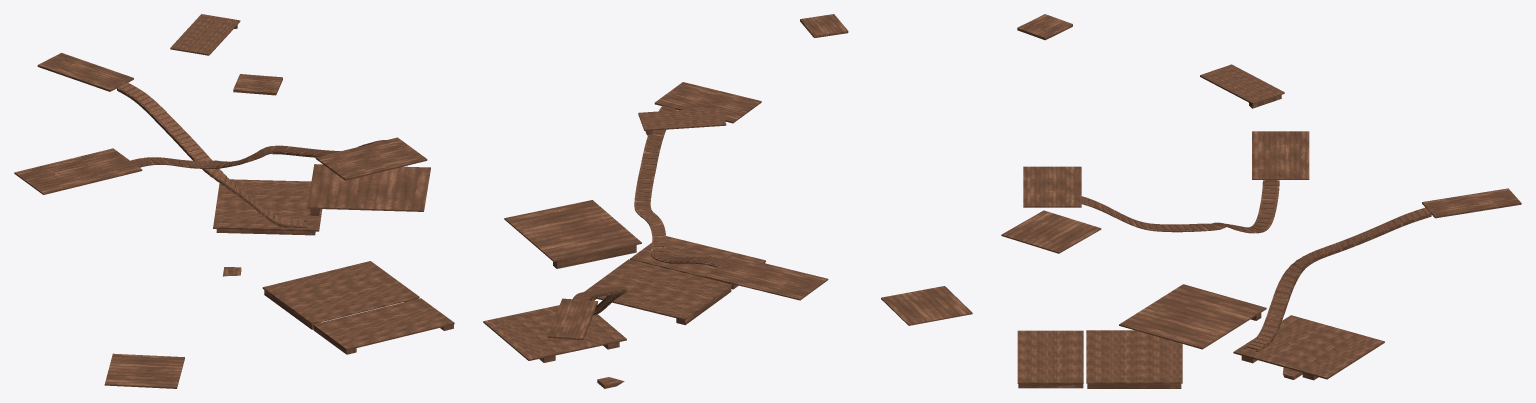
Rendered from field_spring_woodfloor_grp.fbx.
3 views of the same model, side by side, from view 1: azimuth 30°, elevation 25°; view 2: azimuth 150°, elevation 25°; view 3: azimuth 270°, elevation 25° (orthographic). The views are drawn at different scales.
Visible parts, largest first — view 1: field_spring_woodfloor2, field_spring_woodfloor4, field_spring_woodfloor1, field_spring_road, field_spring_woodfloor5, field_spring_woodfloor7, field_spring_woodfloor3, field_spring_woodfloor6, field_spring_woodfloor8, field_spring_woodfloor9; view 2: field_spring_woodfloor2, field_spring_woodfloor4, field_spring_woodfloor1, field_spring_road, field_spring_woodfloor5, field_spring_woodfloor3, field_spring_woodfloor7, field_spring_woodfloor8, field_spring_woodfloor6, field_spring_woodfloor9; view 3: field_spring_woodfloor2, field_spring_road, field_spring_woodfloor4, field_spring_woodfloor1, field_spring_woodfloor5, field_spring_woodfloor7, field_spring_woodfloor3, field_spring_woodfloor8, field_spring_woodfloor6, field_spring_woodfloor9.
Boxes of the visible parts, box(x1,y1,x2,y2) form: field_spring_woodfloor2: box(262, 261, 454, 354); field_spring_woodfloor4: box(307, 164, 430, 215); field_spring_woodfloor1: box(213, 179, 322, 276); field_spring_road: box(117, 82, 385, 227); field_spring_woodfloor5: box(14, 148, 142, 194); field_spring_woodfloor7: box(315, 137, 427, 180); field_spring_woodfloor3: box(104, 353, 184, 388); field_spring_woodfloor6: box(37, 53, 133, 91); field_spring_woodfloor8: box(170, 14, 240, 55); field_spring_woodfloor9: box(233, 74, 282, 95); field_spring_woodfloor2: box(584, 236, 765, 325); field_spring_woodfloor4: box(504, 200, 641, 268); field_spring_woodfloor1: box(483, 305, 626, 388); field_spring_road: box(572, 105, 725, 314); field_spring_woodfloor5: box(705, 255, 828, 300); field_spring_woodfloor3: box(881, 286, 972, 325); field_spring_woodfloor7: box(654, 82, 761, 123); field_spring_woodfloor8: box(638, 107, 726, 135); field_spring_woodfloor6: box(547, 298, 597, 340); field_spring_woodfloor9: box(800, 14, 848, 37); field_spring_woodfloor2: box(1017, 330, 1182, 388); field_spring_road: box(1081, 180, 1431, 351); field_spring_woodfloor4: box(1119, 284, 1266, 349); field_spring_woodfloor1: box(1233, 315, 1384, 380); field_spring_woodfloor5: box(1252, 131, 1309, 179); field_spring_woodfloor7: box(1023, 166, 1081, 207); field_spring_woodfloor3: box(1001, 210, 1101, 253); field_spring_woodfloor8: box(1200, 64, 1284, 108); field_spring_woodfloor6: box(1422, 188, 1521, 218); field_spring_woodfloor9: box(1017, 14, 1072, 40).
Size of the model in its own units: 3031 by 2184 by 3413.
1 material, 1 textured.
